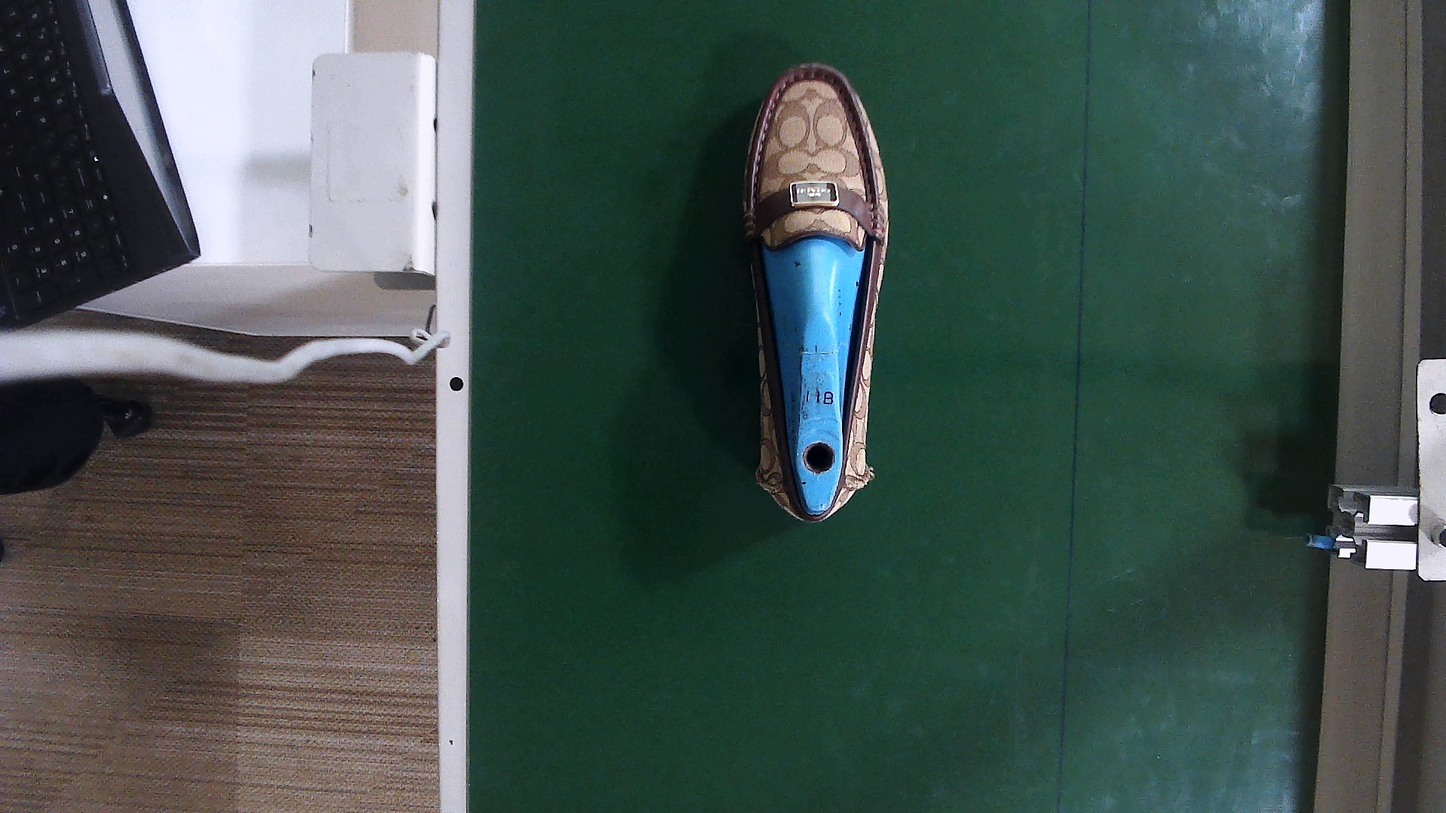shoe: (750, 66, 888, 521)
